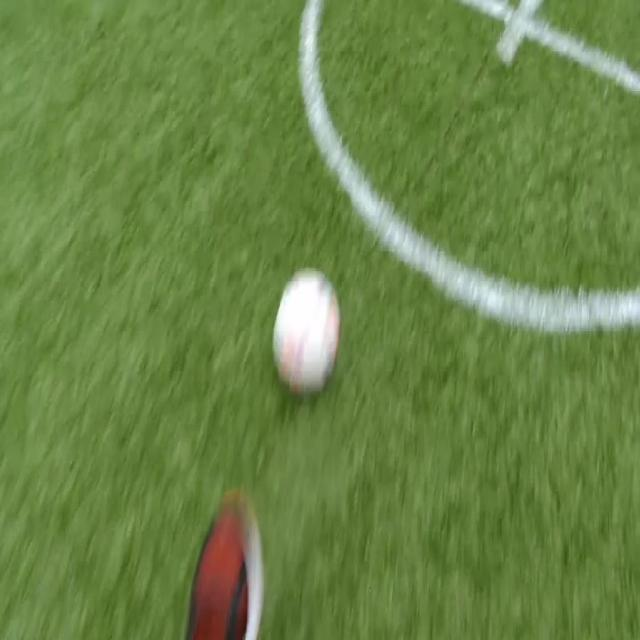ball: (273, 268, 341, 395)
